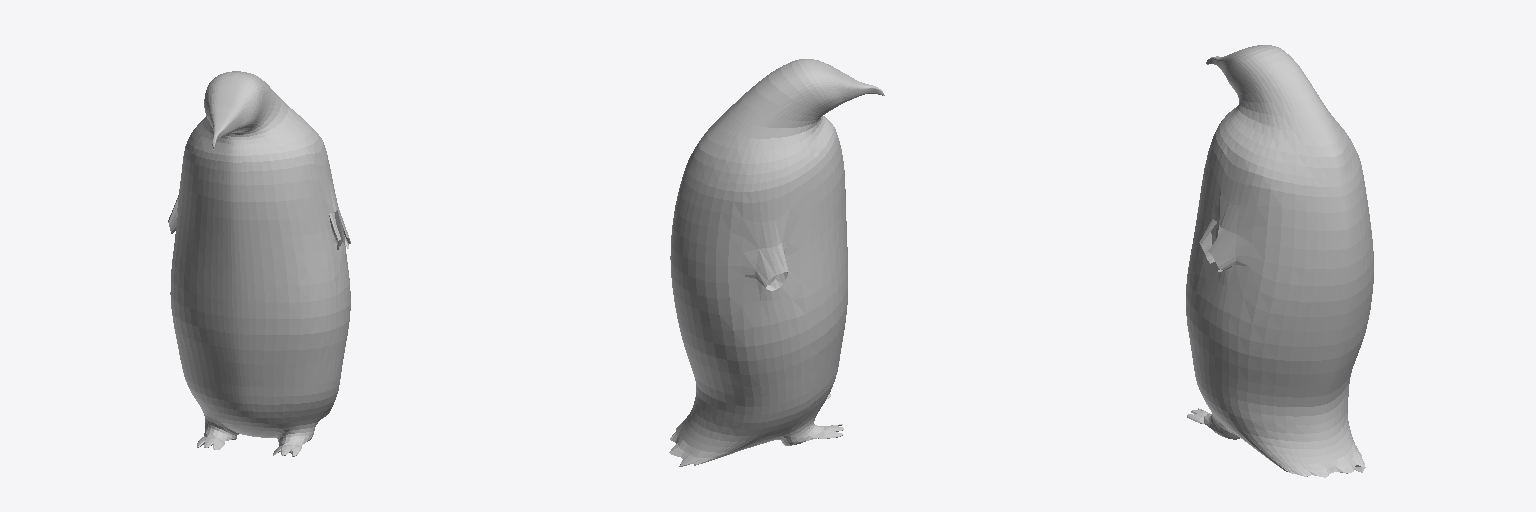
Rendered from penguinBody.obj.
3 views of the same model, side by side, from view 1: azimuth 30°, elevation 25°; view 2: azimuth 150°, elevation 25°; view 3: azimuth 270°, elevation 25° (orthographic).
Visible parts, largest first — view 1: Penguin_body; view 2: Penguin_body; view 3: Penguin_body.
Part boxes in pixels (x1,y1,x2,y2): Penguin_body: (168,71,350,456); Penguin_body: (669,59,884,466); Penguin_body: (1186,45,1373,477).
Size of the model in its own units: 92.41 by 214 by 94.52.